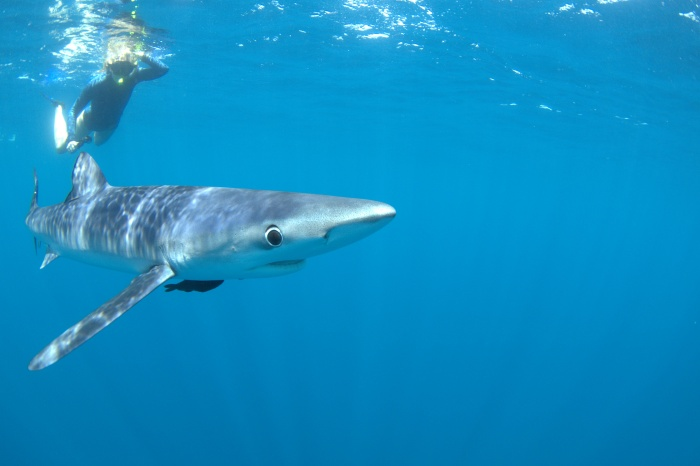Azul: (21, 143, 409, 388)
